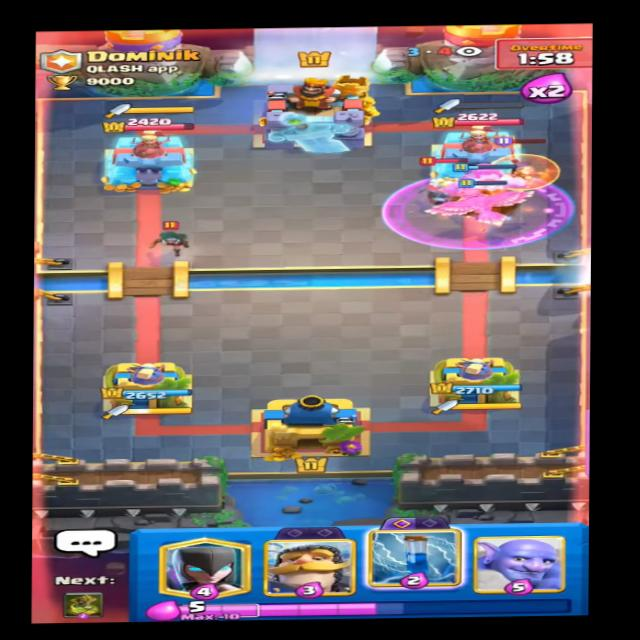bandit: (145, 215, 195, 251)
evo-wizard: (483, 134, 561, 190)
royal-ghost: (416, 157, 485, 206)
